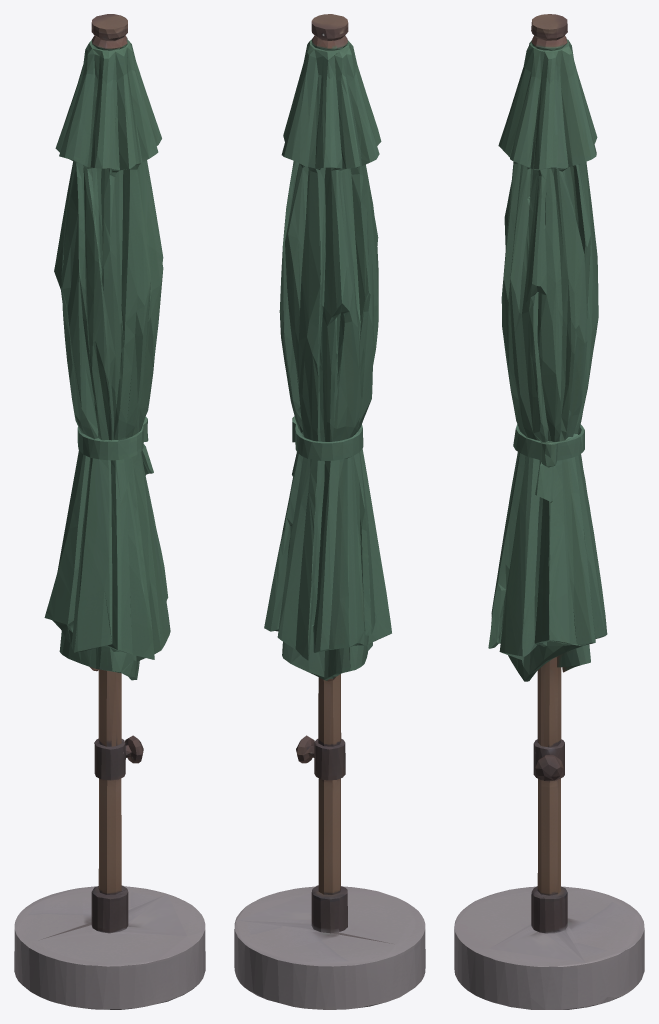
The model's file is parasol_folded.glb.
3 views of the same model, side by side, from view 1: azimuth 30°, elevation 25°; view 2: azimuth 150°, elevation 25°; view 3: azimuth 270°, elevation 25° (orthographic).
Parts seen in each view (by area): view 1: parasol_folded; view 2: parasol_folded; view 3: parasol_folded.
Boxes of the visible parts, x1,y1,x2,y2 form: parasol_folded: (14,14,205,1009); parasol_folded: (234,14,425,1009); parasol_folded: (454,14,644,1009).
Size of the model in its own units: 0.4386 by 2.4 by 0.4362.
Materials: 1 (1 with a texture image).
